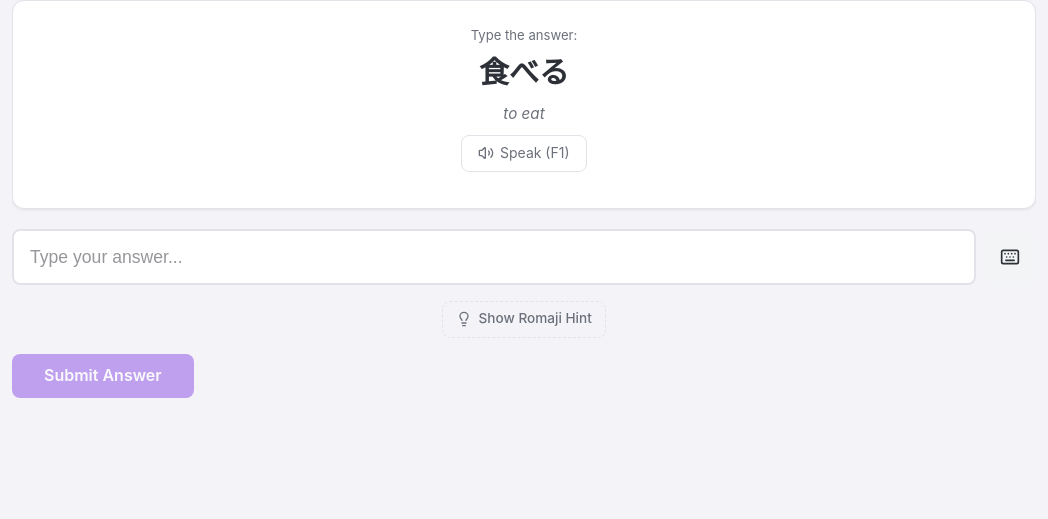
TypingQuiz Component › Answer Validation › should show correct feedback for correct answer
In the field with placeholder "Type your answer...": (494, 257) left=12, top=229, right=976, bottom=285, type "taberu"
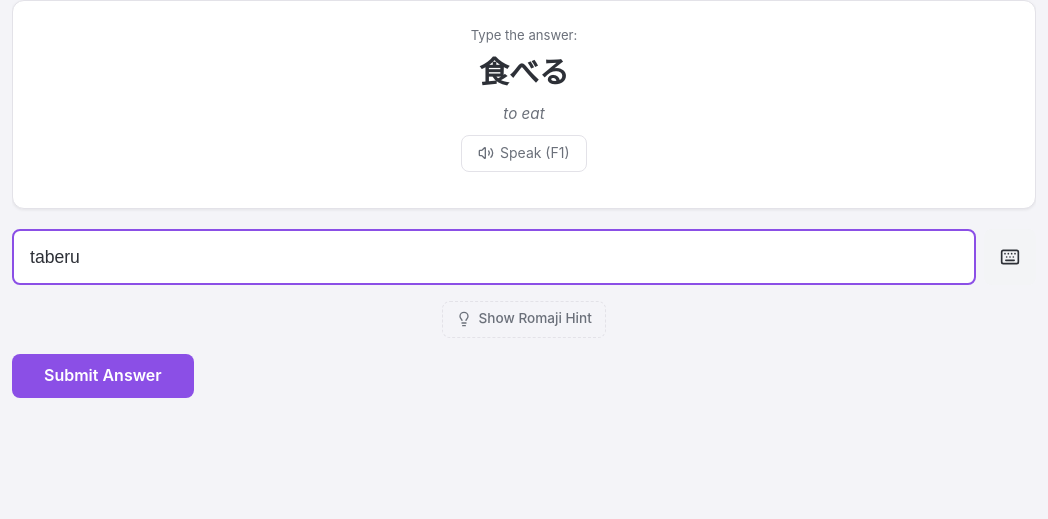
Click the button "Submit Answer": (103, 376) left=12, top=354, right=194, bottom=398
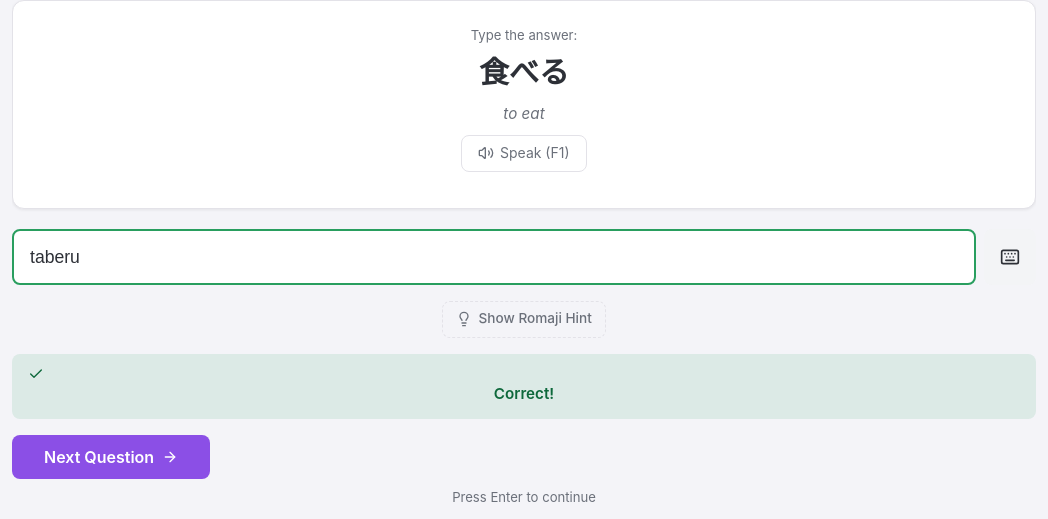
Result: the text "Correct!" is shown at left=12, top=354, right=1036, bottom=419
